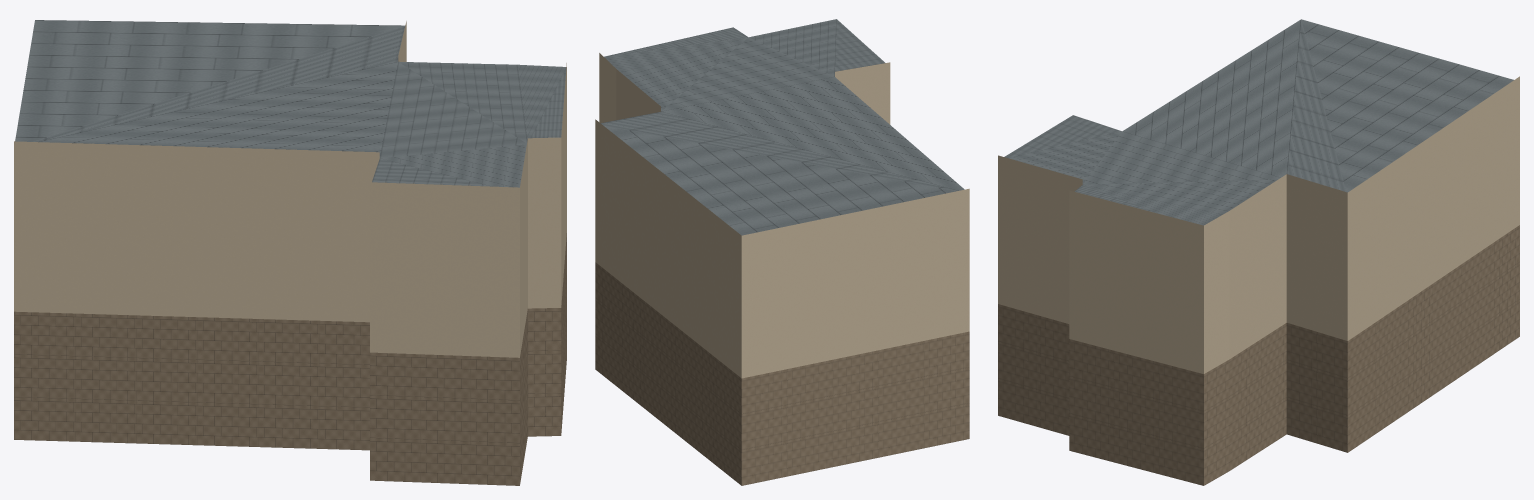
File: core_0044.gltf
3 views of the same model, side by side, from view 1: azimuth 30°, elevation 25°; view 2: azimuth 150°, elevation 25°; view 3: azimuth 270°, elevation 25° (orthographic). The views are drawn at different scales.
Visible parts, largest first — view 1: core_0044; view 2: core_0044; view 3: core_0044.
Part boxes in pixels (x1,y1,x2,y2): core_0044: (14,20,566,485); core_0044: (595,19,969,485); core_0044: (998,19,1519,485).
Size of the model in its own units: 20.71 by 11.88 by 21.58.
3 materials, 3 textured.
